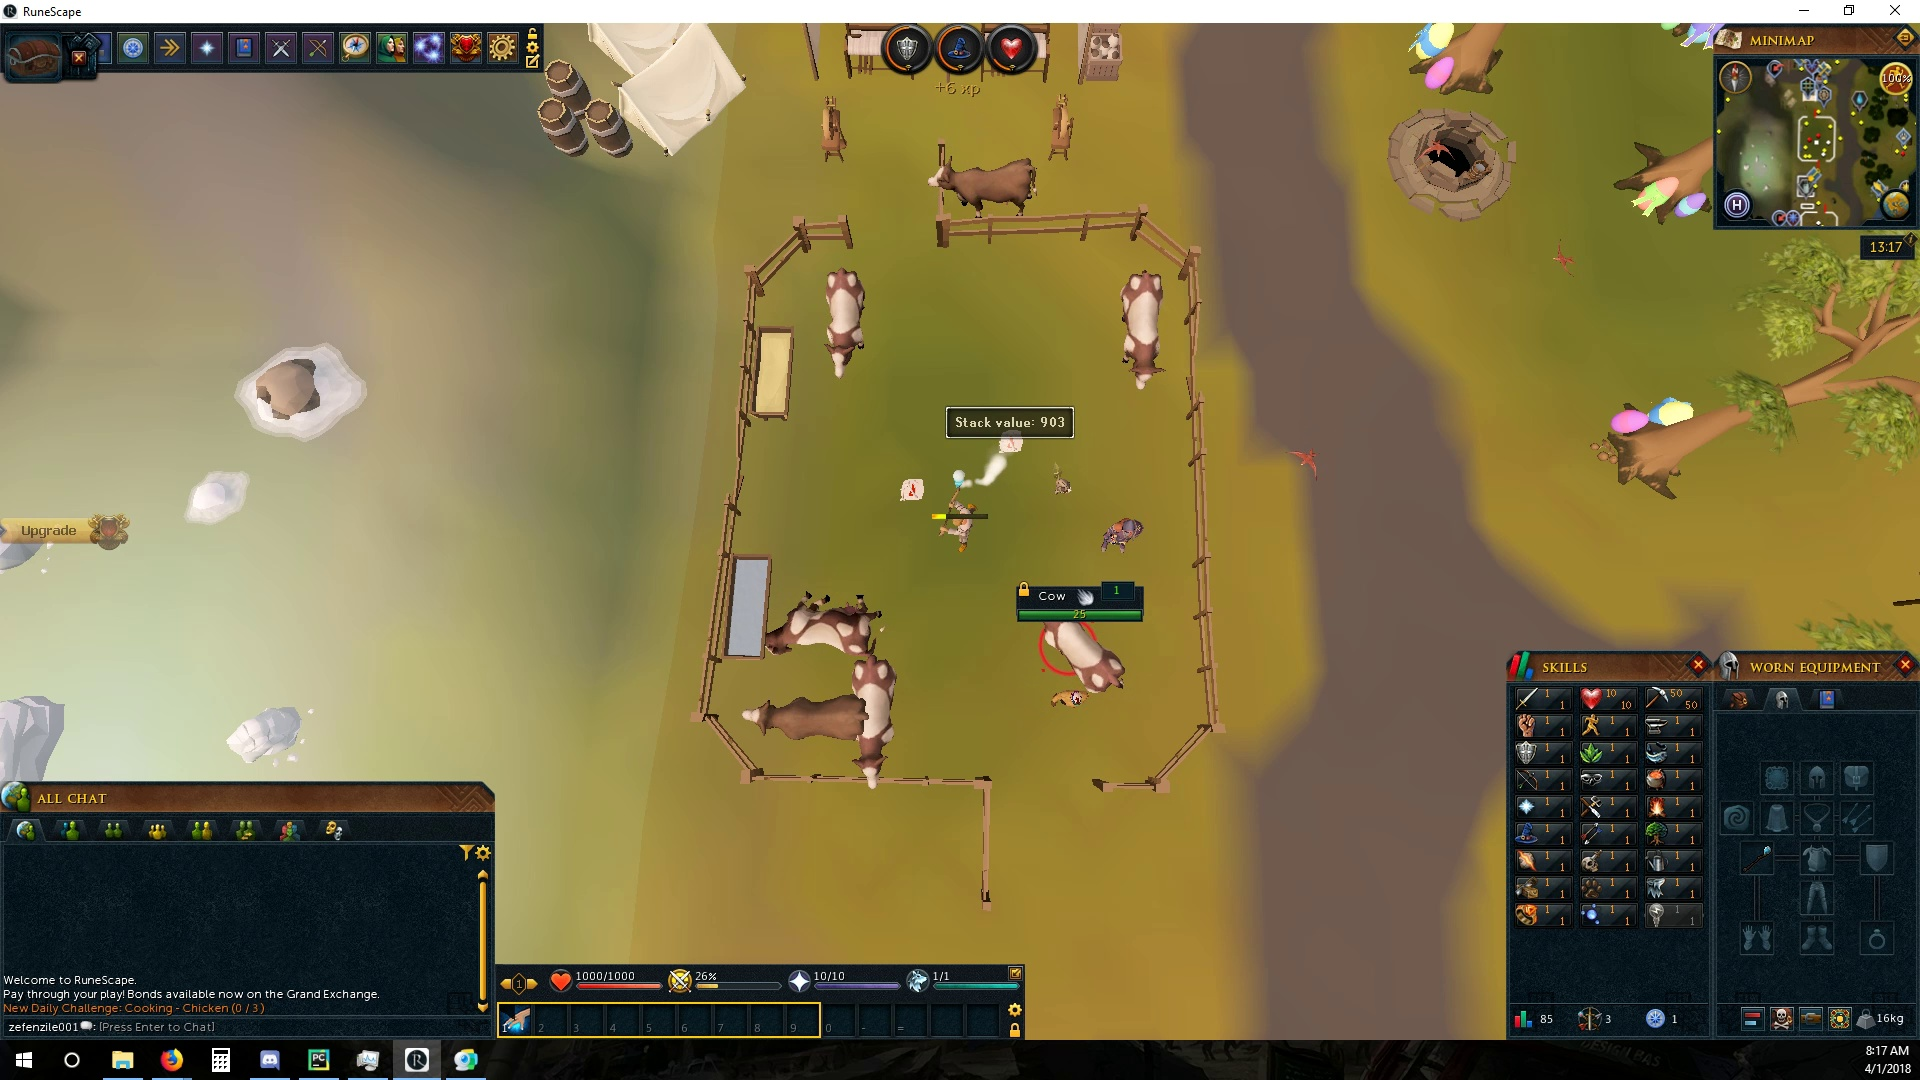cow: (764, 587, 882, 659), (1036, 617, 1131, 696), (927, 154, 1042, 218), (738, 691, 876, 742), (1116, 265, 1168, 392), (849, 659, 897, 787), (819, 262, 869, 380)
cow_drop: (894, 477, 934, 501), (992, 438, 1033, 455)
